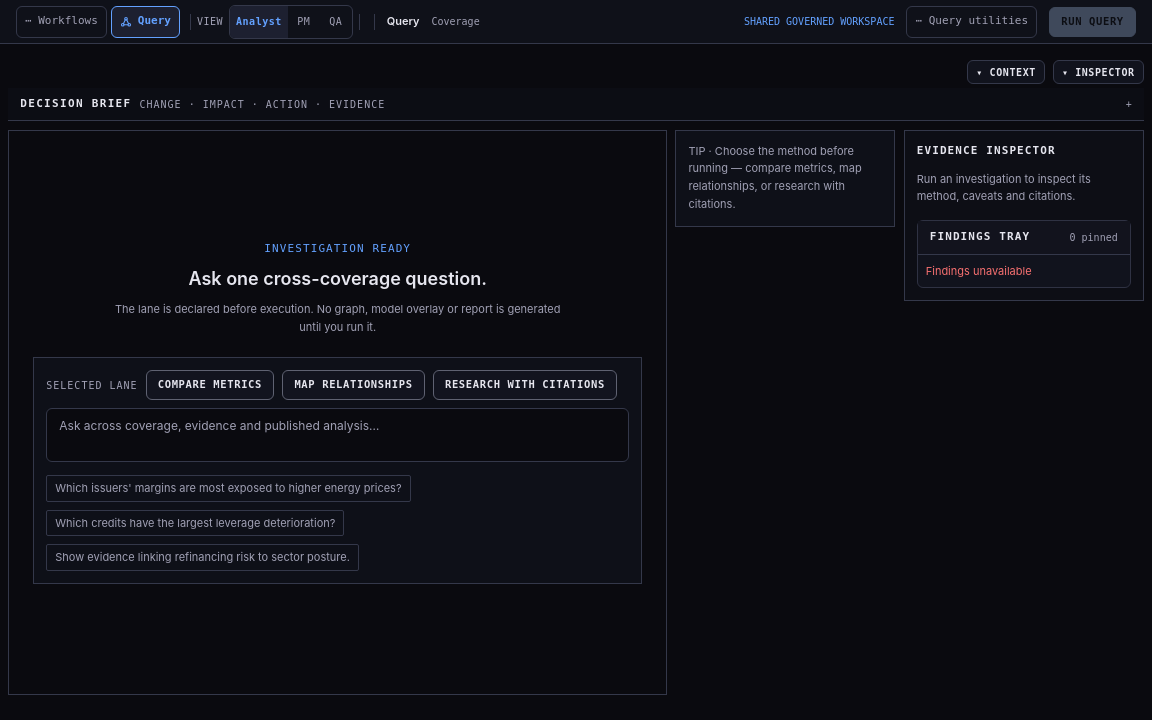
Query investigation edge interactions › does not refetch the full history after publishing a local query result
In the text box named "Query coverage": x=338, y=435 [46,408,629,462], type "local question"
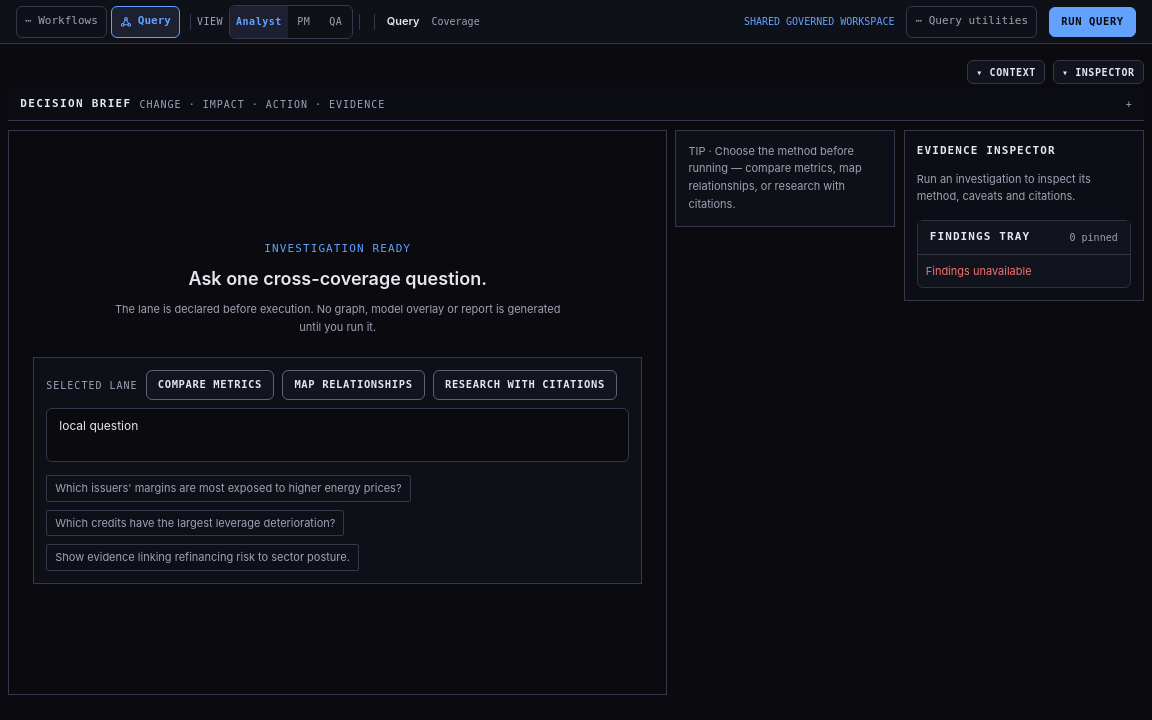
Click the button "Run Query": x=1092, y=22 [1049,6,1136,36]
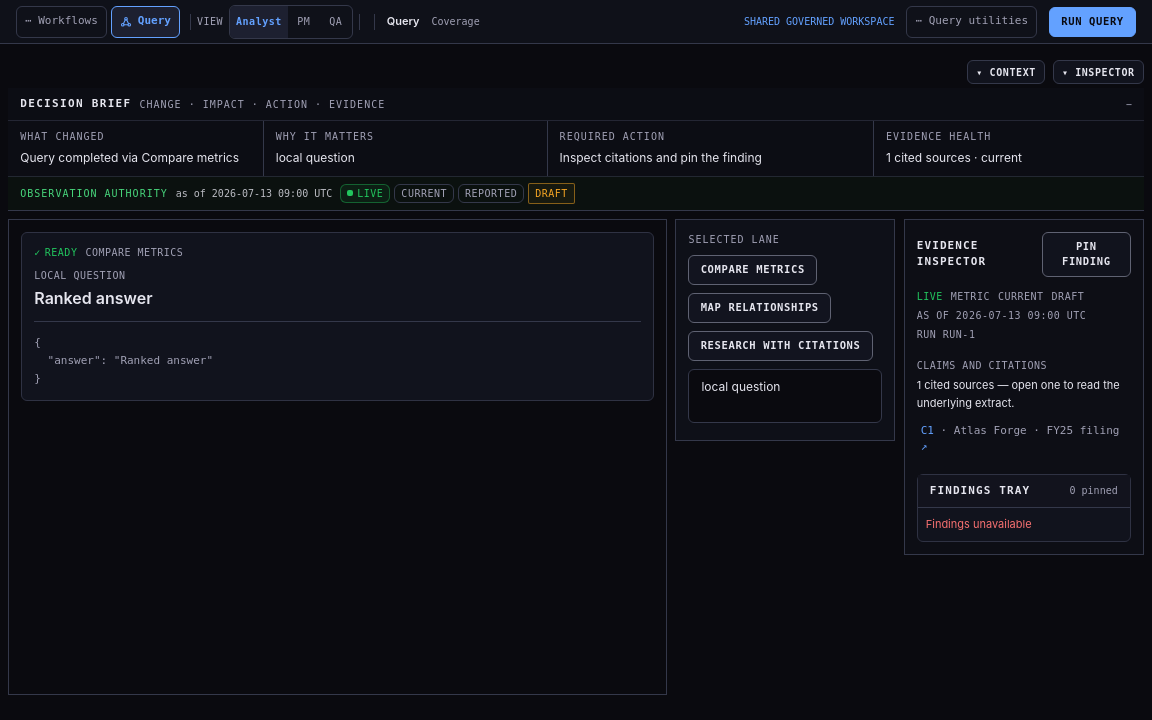
Expected: the heading "Ranked answer" is shown, [34,288,153,308]
